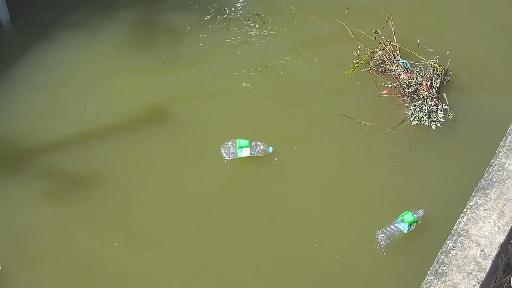plastic: (189, 136, 278, 177), (368, 205, 430, 250)
twig: (324, 8, 471, 127)
